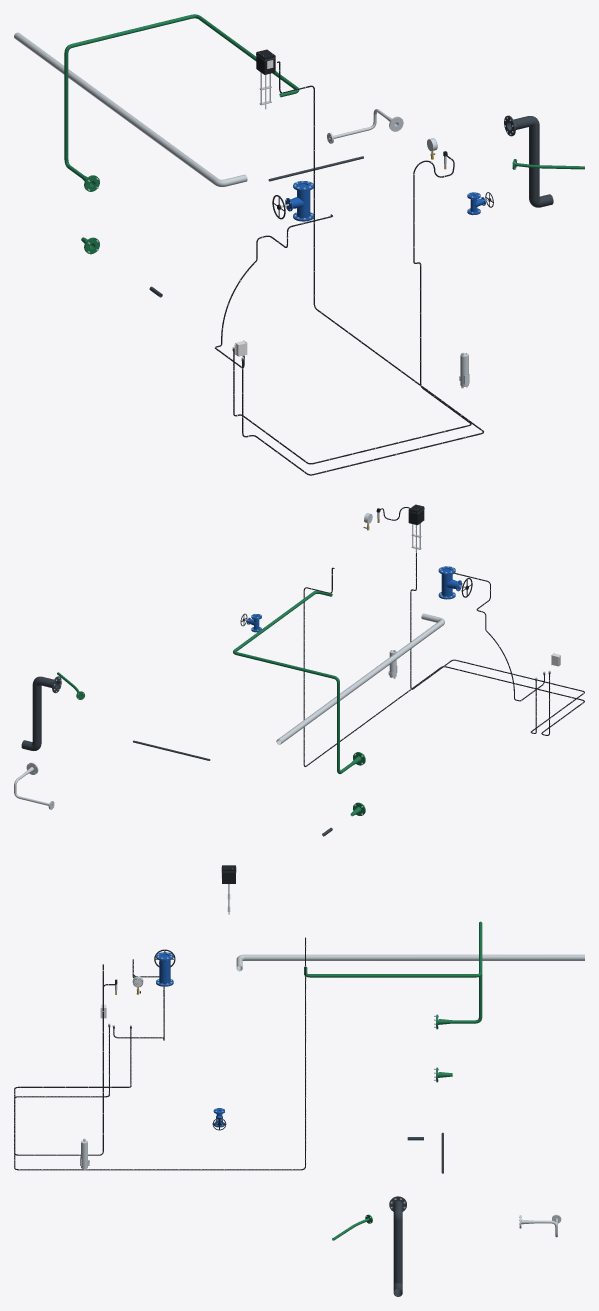
The picture shows the model from 3 angles, top to bottom: view 1: azimuth 30°, elevation 25°; view 2: azimuth 150°, elevation 25°; view 3: azimuth 270°, elevation 25°; orthographic projection. The views are drawn at different scales.
Parts seen in each view (by area): view 1: safety_vent_2 / steel, from_economizer / green, mod_direct_drive_cable / black, bdv_water_drain / dark, wiring_pressure_transmitter / black, steam_manual / blue; view 2: safety_vent_2 / steel, from_economizer / green, mod_direct_drive_cable / black, bdv_water_drain / dark, wiring_pressure_transmitter / black, steam_manual / blue; view 3: safety_vent_2 / steel, from_economizer / green, mod_direct_drive_cable / black, bdv_water_drain / dark, wiring_pressure_transmitter / black.
Part boxes in pixels (bbox=[...]): safety_vent_2 / steel: bbox=[14, 32, 247, 186]; from_economizer / green: bbox=[64, 14, 299, 177]; mod_direct_drive_cable / black: bbox=[242, 61, 483, 475]; bdv_water_drain / dark: bbox=[504, 115, 553, 207]; wiring_pressure_transmitter / black: bbox=[233, 153, 471, 464]; steam_manual / blue: bbox=[285, 181, 313, 221]; safety_vent_2 / steel: bbox=[276, 613, 444, 744]; from_economizer / green: bbox=[233, 590, 353, 773]; mod_direct_drive_cable / black: bbox=[303, 567, 584, 766]; bdv_water_drain / dark: bbox=[21, 676, 61, 750]; wiring_pressure_transmitter / black: bbox=[376, 507, 584, 733]; steam_manual / blue: bbox=[438, 566, 462, 599]; safety_vent_2 / steel: bbox=[236, 954, 584, 971]; from_economizer / green: bbox=[304, 921, 482, 1023]; mod_direct_drive_cable / black: bbox=[14, 937, 306, 1170]; bdv_water_drain / dark: bbox=[389, 1196, 406, 1296]; wiring_pressure_transmitter / black: bbox=[14, 964, 131, 1155].
Bounding box in the file's own units: 5.91 × 3.71 × 7.03.
